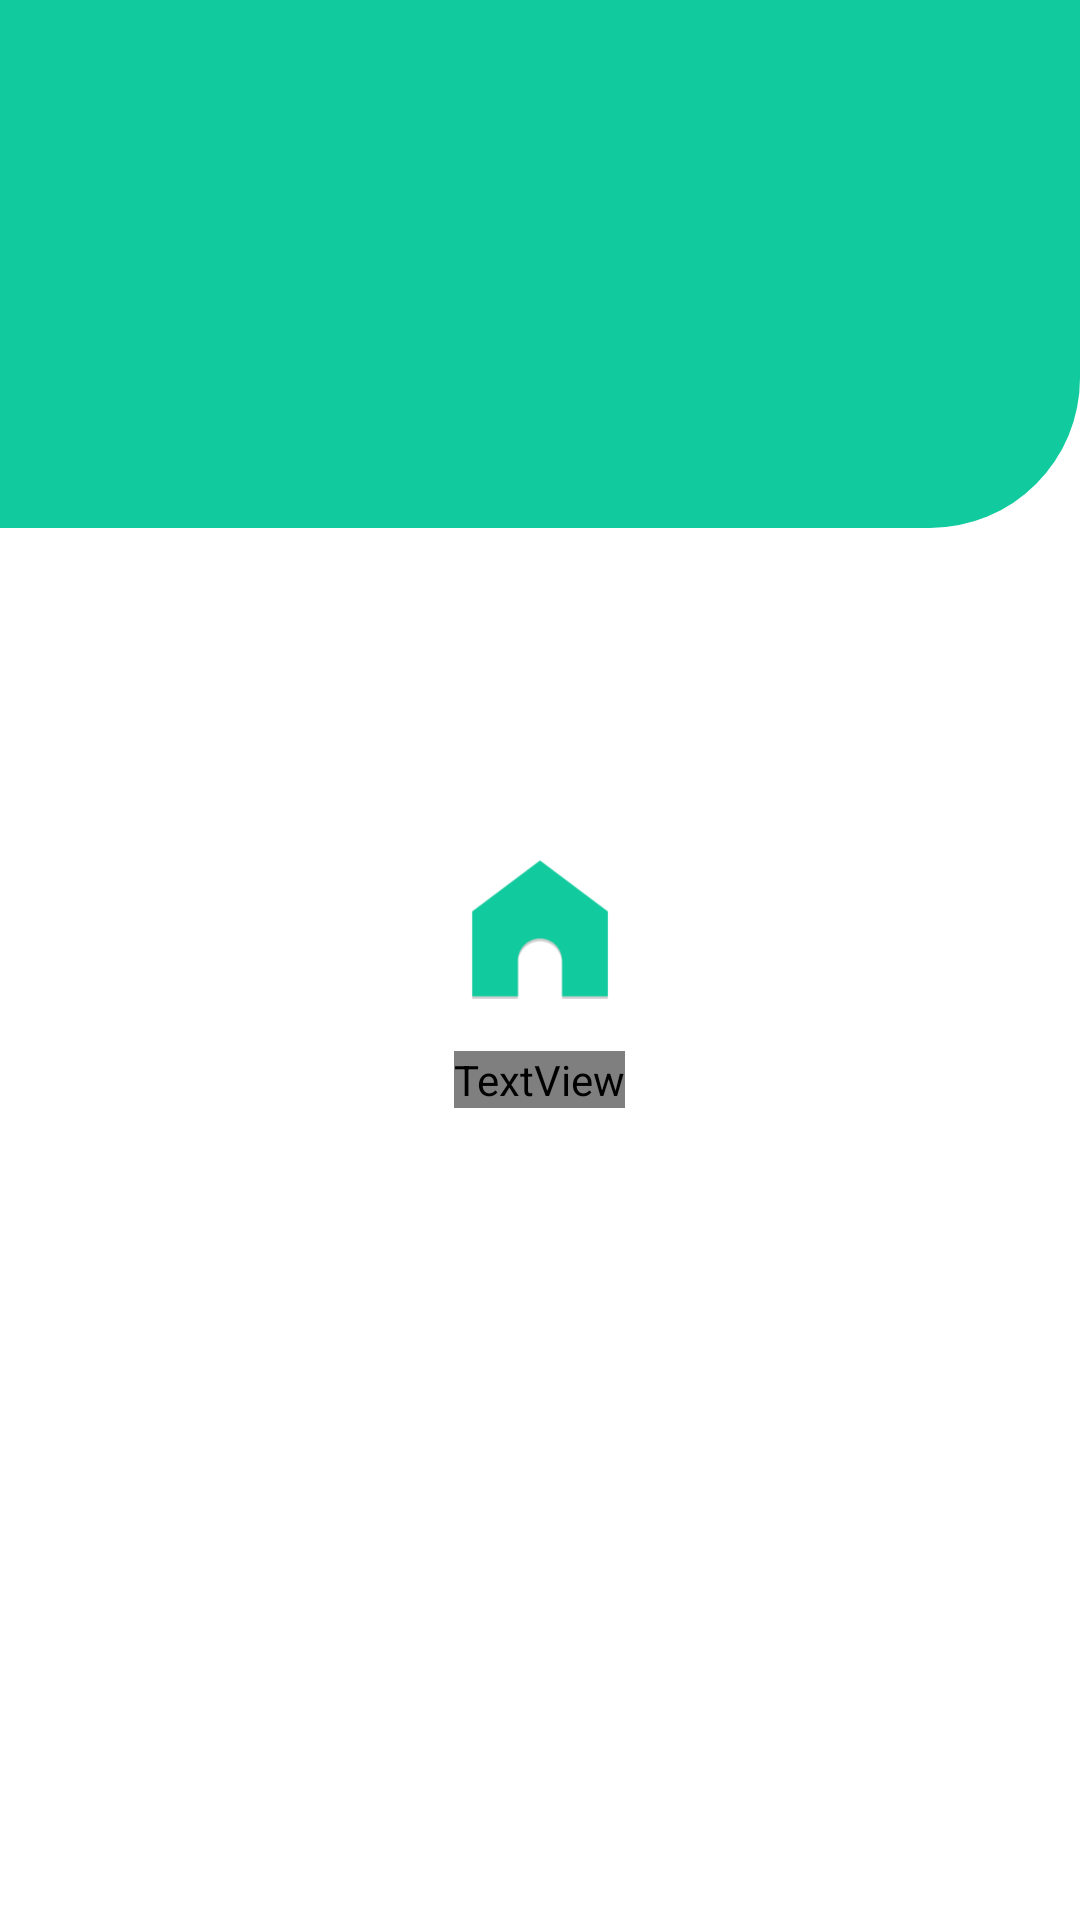

Icon bounding boxes for this 1080x1920 phone screenshot, format (x1, y1, x2, y2):
home: (472, 860, 608, 999)
